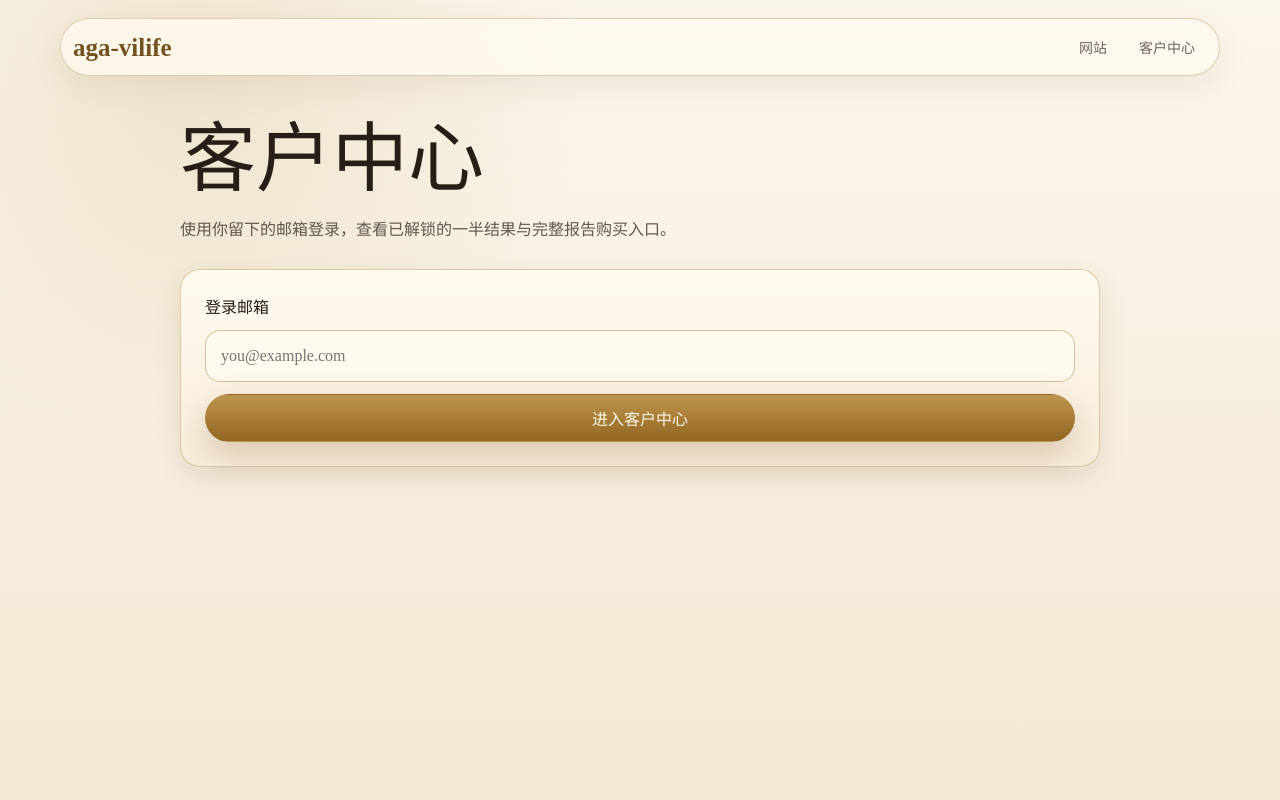
Test case: Client portal › shows an empty state when the email has no saved reports
Type "empty@example.com" into the field labelled "登录邮箱" at coordinates (640, 356), box [205, 330, 1075, 382]
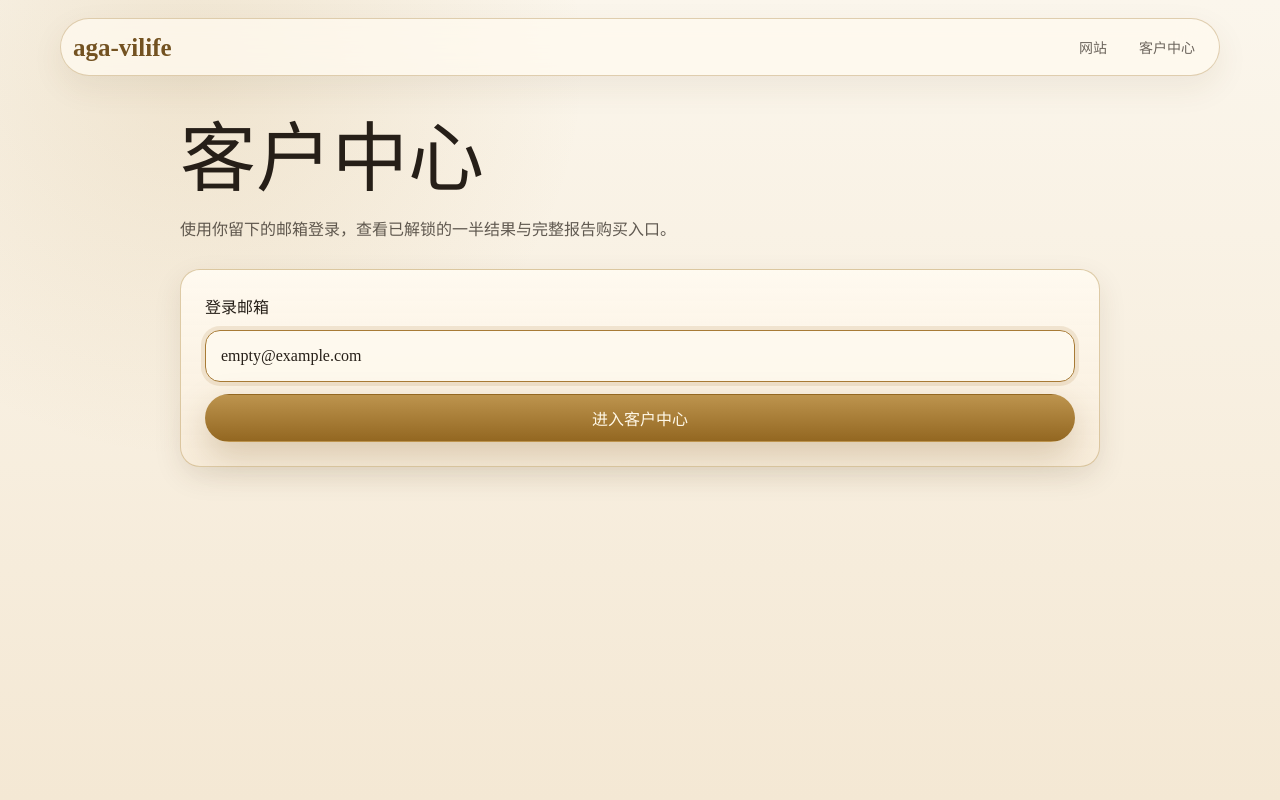
Click the button "进入客户中心" at coordinates (640, 418), box [205, 394, 1075, 442]
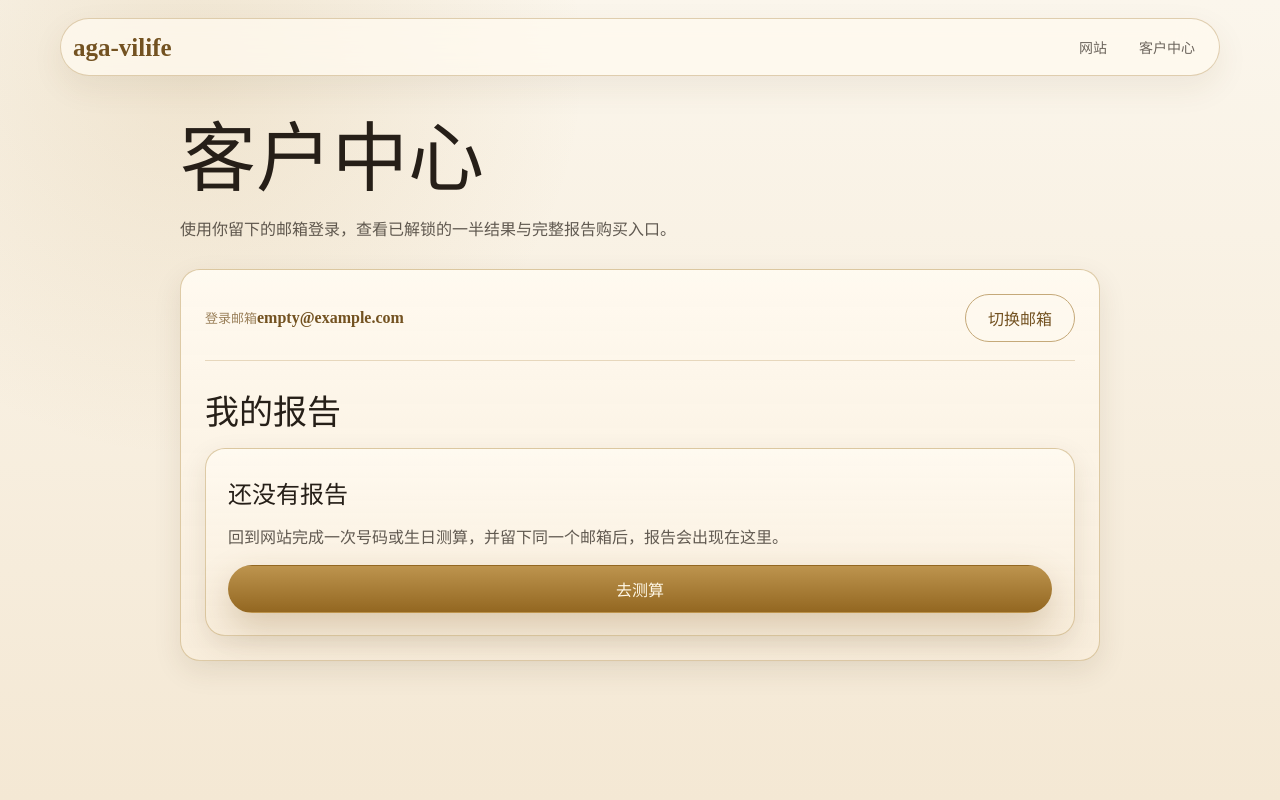
Result: the heading "还没有报告" is shown at [228, 482, 348, 508]
